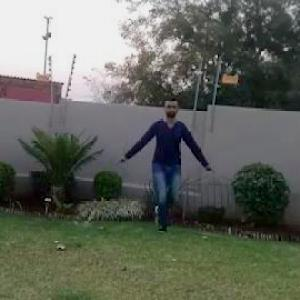land: (116, 100, 218, 236)
